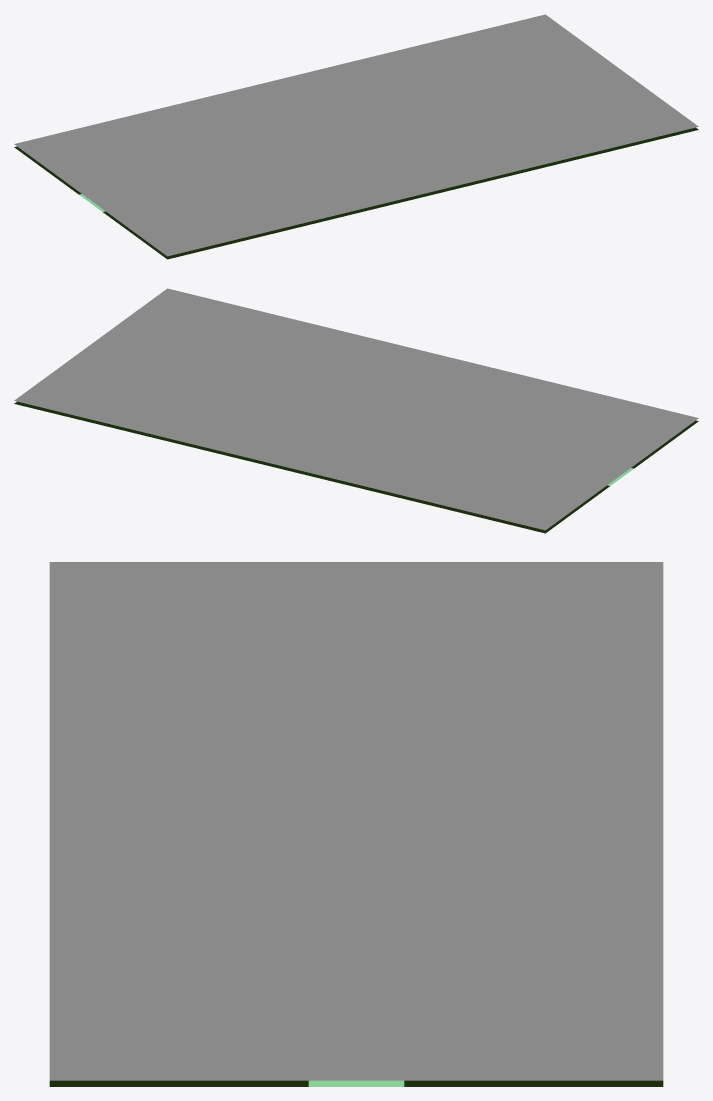
Rendered from RT CHIC V01 T02.FBX.
3 renders of one model, top to bottom at view 1: azimuth 30°, elevation 25°; view 2: azimuth 150°, elevation 25°; view 3: azimuth 270°, elevation 25°, orthographic. The views are drawn at different scales.
Visible parts, largest first — view 1: RT CHIC V01 T02 SNAP, RT CHIC V01 T02 NAV Grass.Conc, RT CHIC V01 T02 HI; view 2: RT CHIC V01 T02 SNAP, RT CHIC V01 T02 NAV Grass, RT CHIC V01 T02 HI; view 3: RT CHIC V01 T02 SNAP, RT CHIC V01 T02 HI, RT CHIC V01 T02 NAV Grass.Conc, RT CHIC V01 T02 NAV Grass.
Part boxes in pixels (x1,y1,x2,y2): RT CHIC V01 T02 SNAP: [14, 14, 698, 256]; RT CHIC V01 T02 NAV Grass.Conc: [103, 127, 698, 249]; RT CHIC V01 T02 HI: [14, 146, 332, 259]; RT CHIC V01 T02 SNAP: [14, 288, 698, 530]; RT CHIC V01 T02 NAV Grass: [14, 401, 609, 508]; RT CHIC V01 T02 HI: [379, 420, 698, 533]; RT CHIC V01 T02 SNAP: [49, 562, 663, 1080]; RT CHIC V01 T02 HI: [183, 1080, 529, 1086]; RT CHIC V01 T02 NAV Grass.Conc: [49, 1080, 183, 1086]; RT CHIC V01 T02 NAV Grass: [529, 1080, 663, 1086].
Size of the model in its own units: 180 by 1 by 90.
